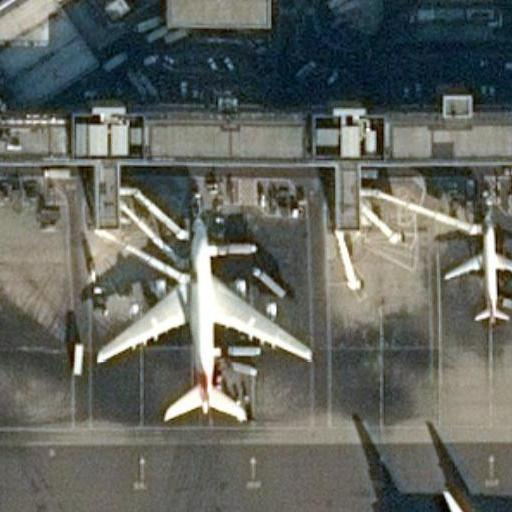Aircraft: (91, 211, 310, 425), (440, 213, 512, 326), (429, 485, 472, 512)
